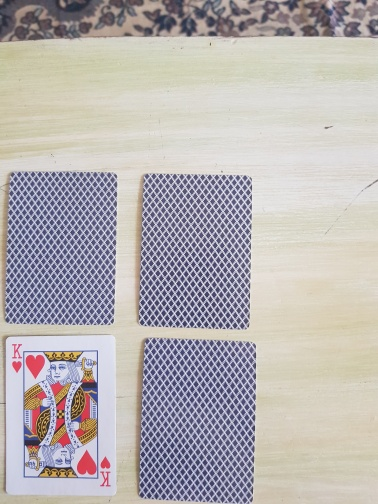king: (4, 335, 117, 497)
